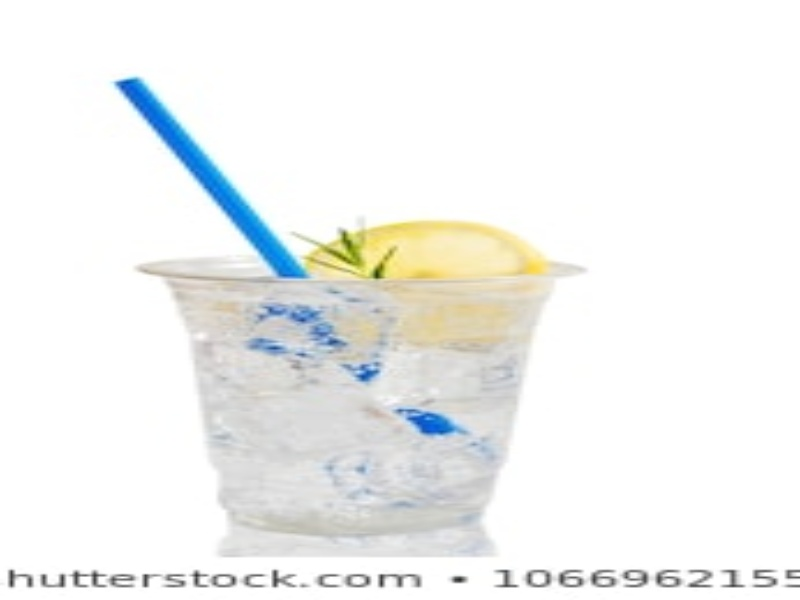plastic-cup: (133, 252, 588, 541)
straw: (110, 73, 355, 278)
